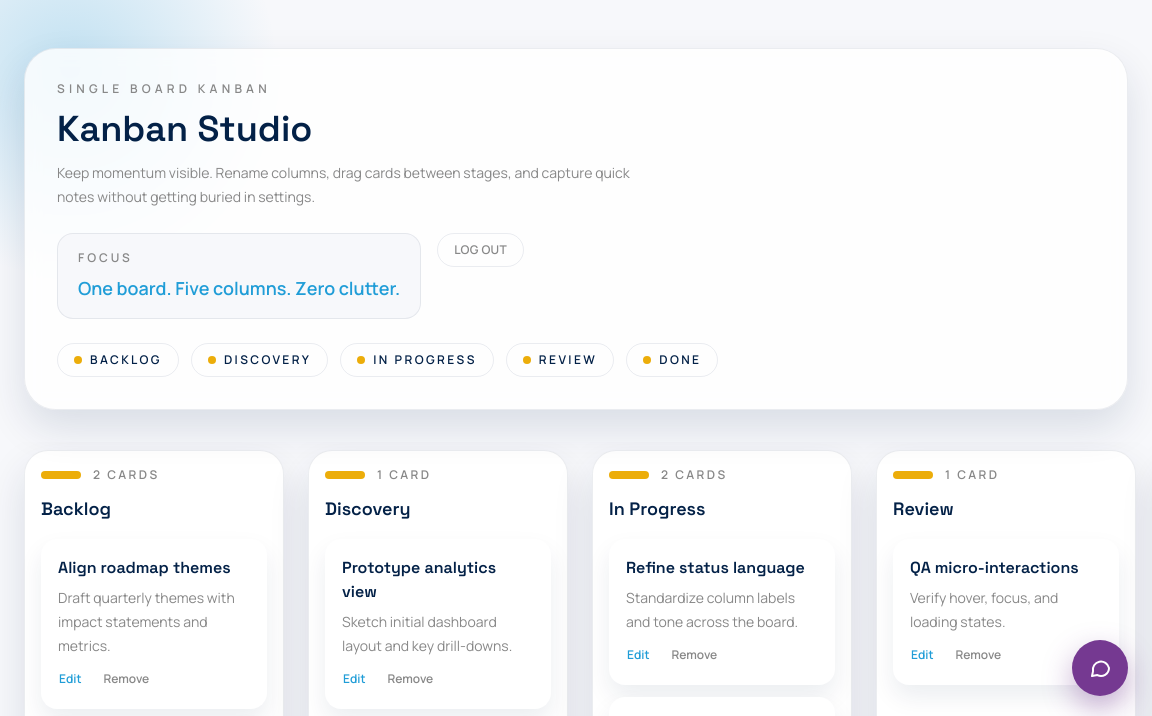
Scenario: KanbanBoard › shows the board from an AI reply without saving it again
The width and height of the screenshot is (1152, 716).
Click the button named "Open AI assistant".
click(1100, 668)  # box [1072,640,1128,696]
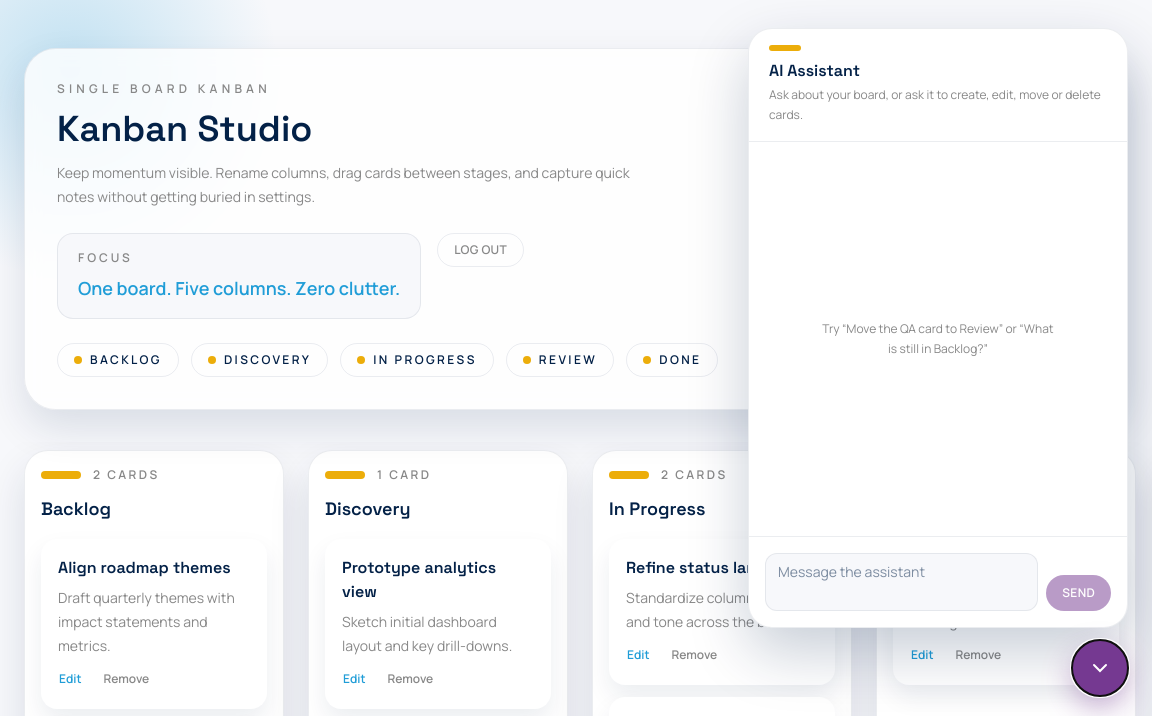
Type "Add a card" into the text box labelled "Message".
click(902, 582); type("Add a card")  # box [765,553,1038,611]
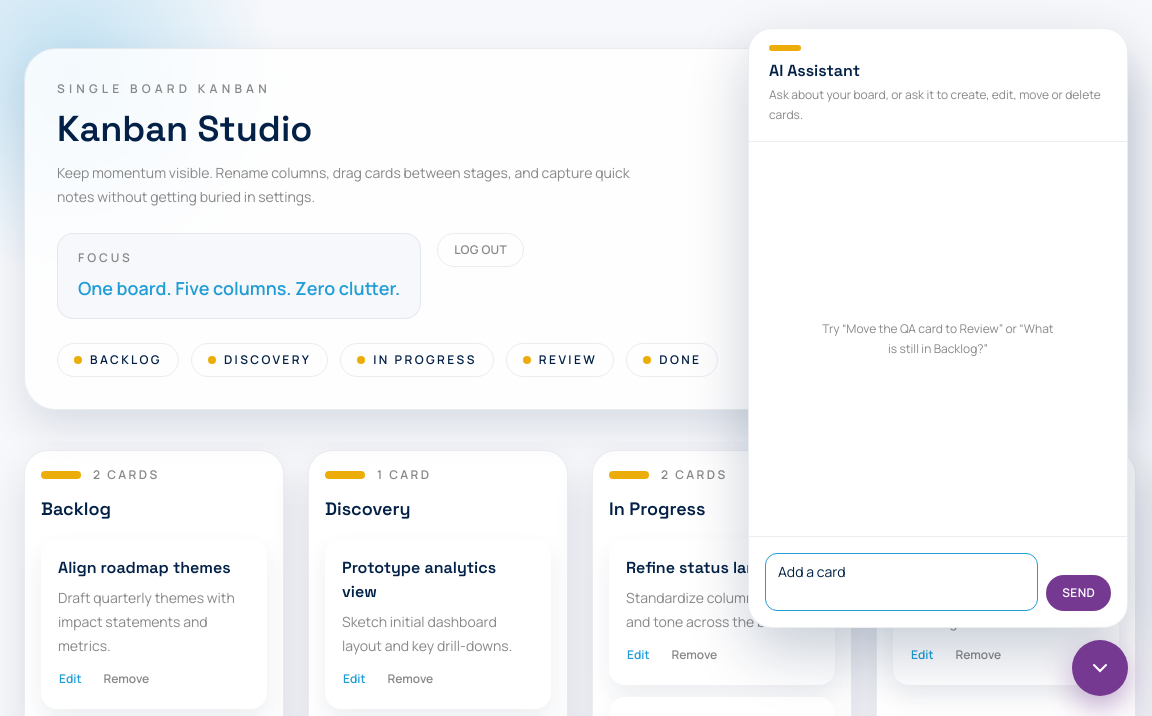
Click the button "Send".
click(1079, 593)  # box [1046,575,1111,611]
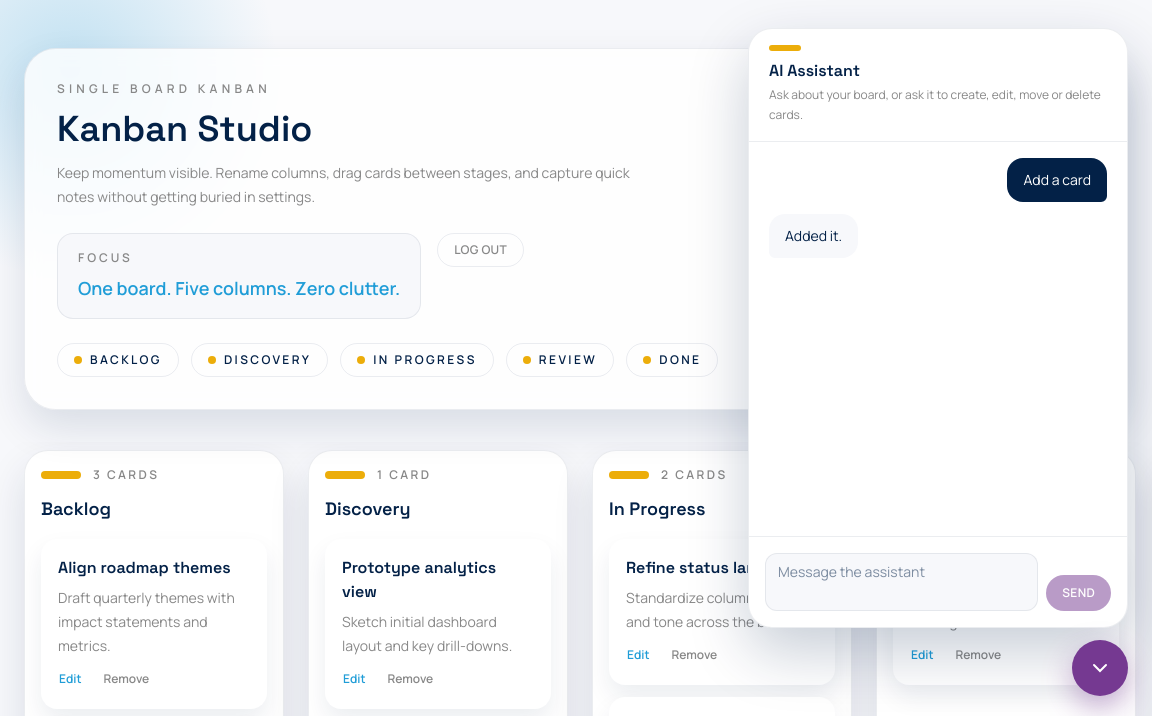
expect the text "Added it." is shown: met, box [769,214,858,258]
